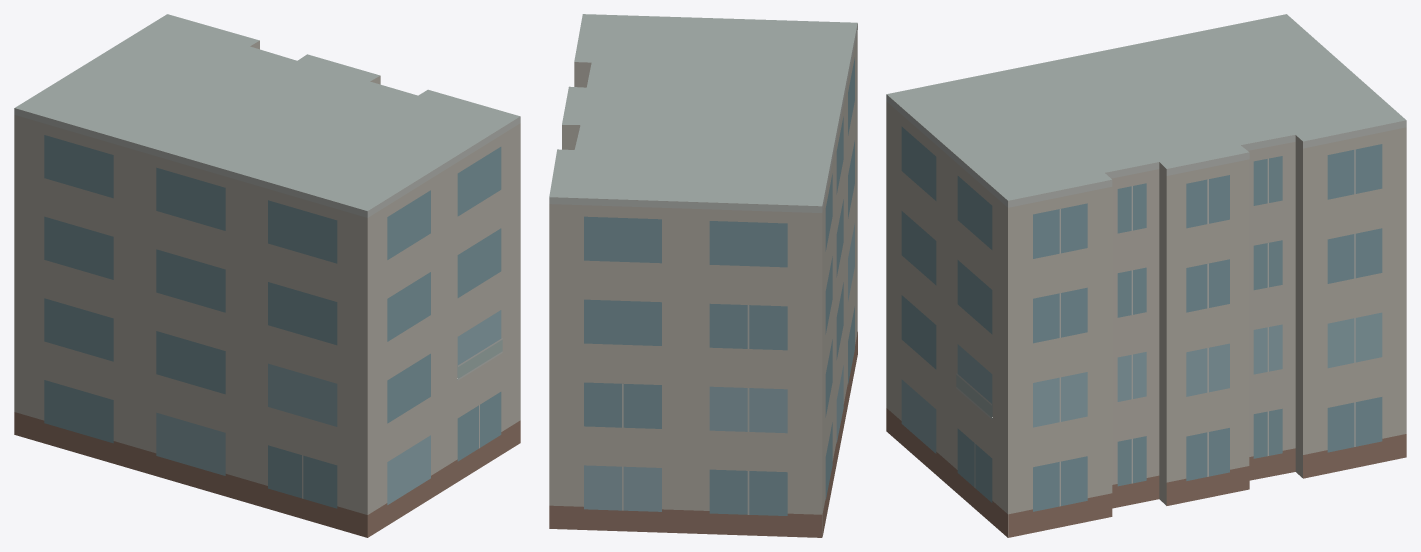
Rendered from survey-upis-32544347.glb.
3 views of the same model, side by side, from view 1: azimuth 30°, elevation 25°; view 2: azimuth 150°, elevation 25°; view 3: azimuth 270°, elevation 25° (orthographic). The views are drawn at different scales.
Visible parts, largest first — view 1: survey-upis-32544347.tmp; view 2: survey-upis-32544347.tmp; view 3: survey-upis-32544347.tmp.
Part boxes in pixels (x1,y1,x2,y2): survey-upis-32544347.tmp: [14, 14, 520, 537]; survey-upis-32544347.tmp: [549, 14, 857, 537]; survey-upis-32544347.tmp: [886, 14, 1406, 537].
Bounding box in the file's own units: 13.92 × 11.7 × 16.38.
